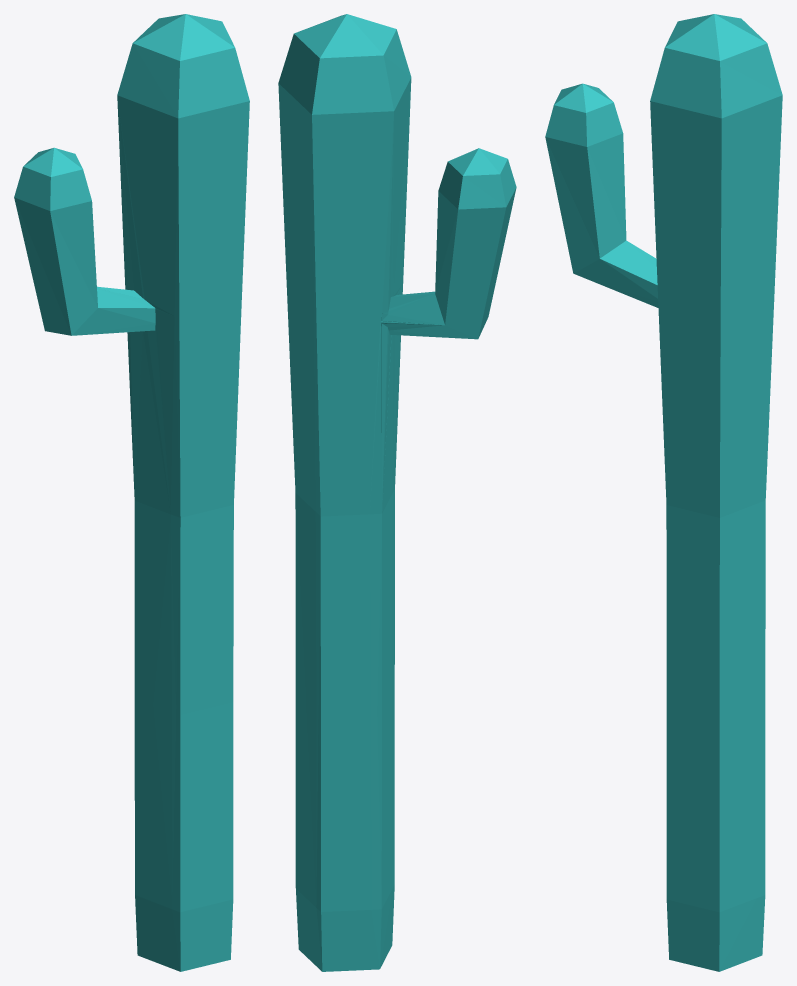
Rendered from mars_tree01_mid.obj.
3 renders of one model, left to right at view 1: azimuth 30°, elevation 25°; view 2: azimuth 150°, elevation 25°; view 3: azimuth 330°, elevation 25°, orthographic.
Visible parts, largest first — view 1: Object.1; view 2: Object.1; view 3: Object.1.
Part boxes in pixels (left/top/right/bottom): Object.1: left=14, top=14, right=249, bottom=971; Object.1: left=278, top=14, right=516, bottom=971; Object.1: left=545, top=14, right=782, bottom=971.
Size of the model in its own units: 10.98 by 44.1 by 5.4.
